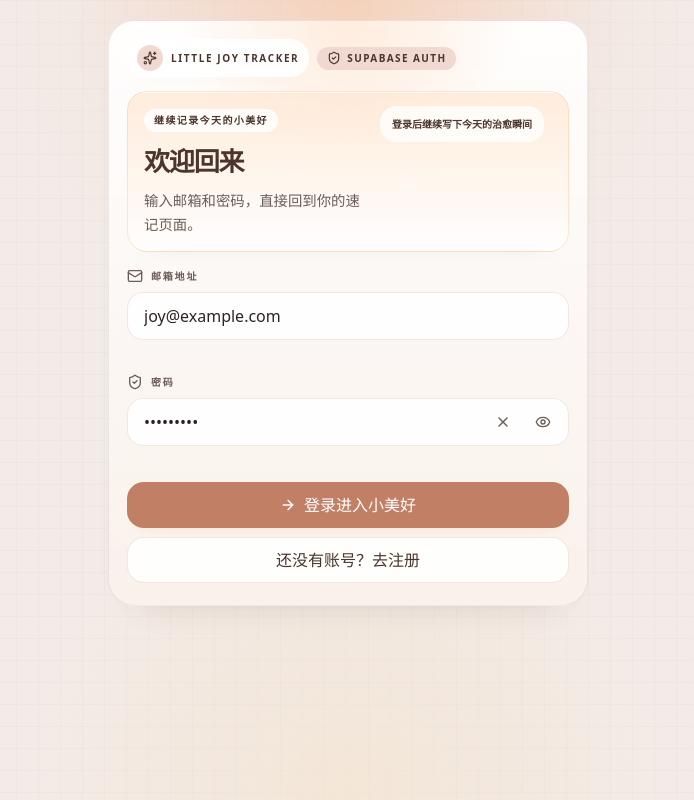
Test: AuthScreen › clears only the password value
The image size is (694, 800).
Click the button named "清空密码". click: {"x": 503, "y": 422}
box: [485,404,521,440]
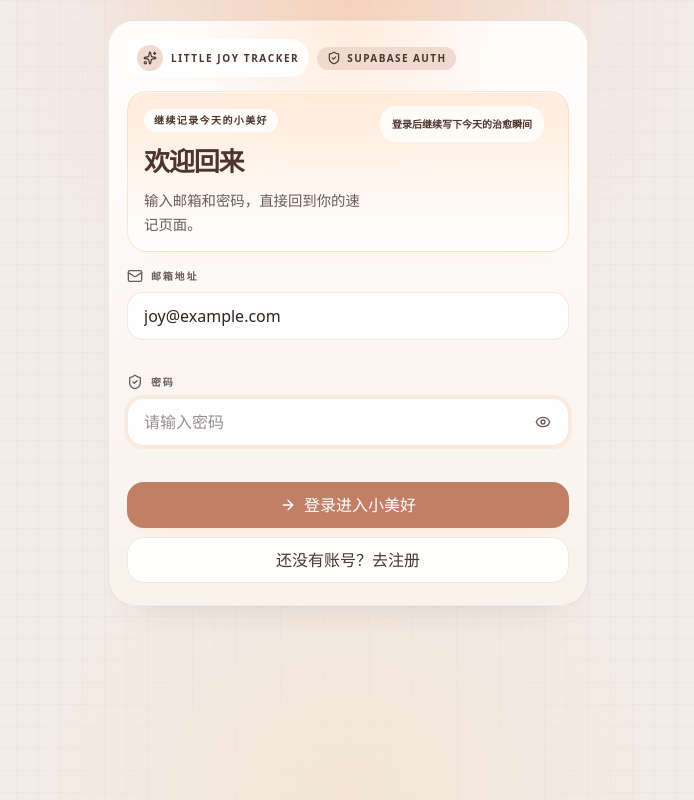
Now the password field with placeholder "请输入密码" is empty, box [127,398,569,446]
